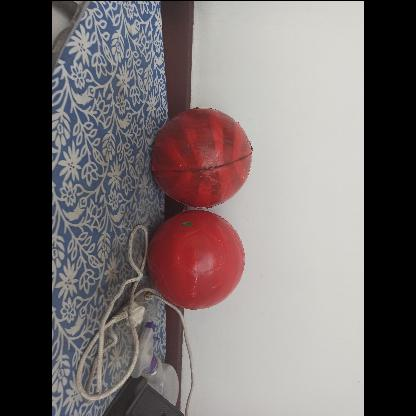red_ball: (152, 106, 254, 209), (151, 211, 247, 307)
